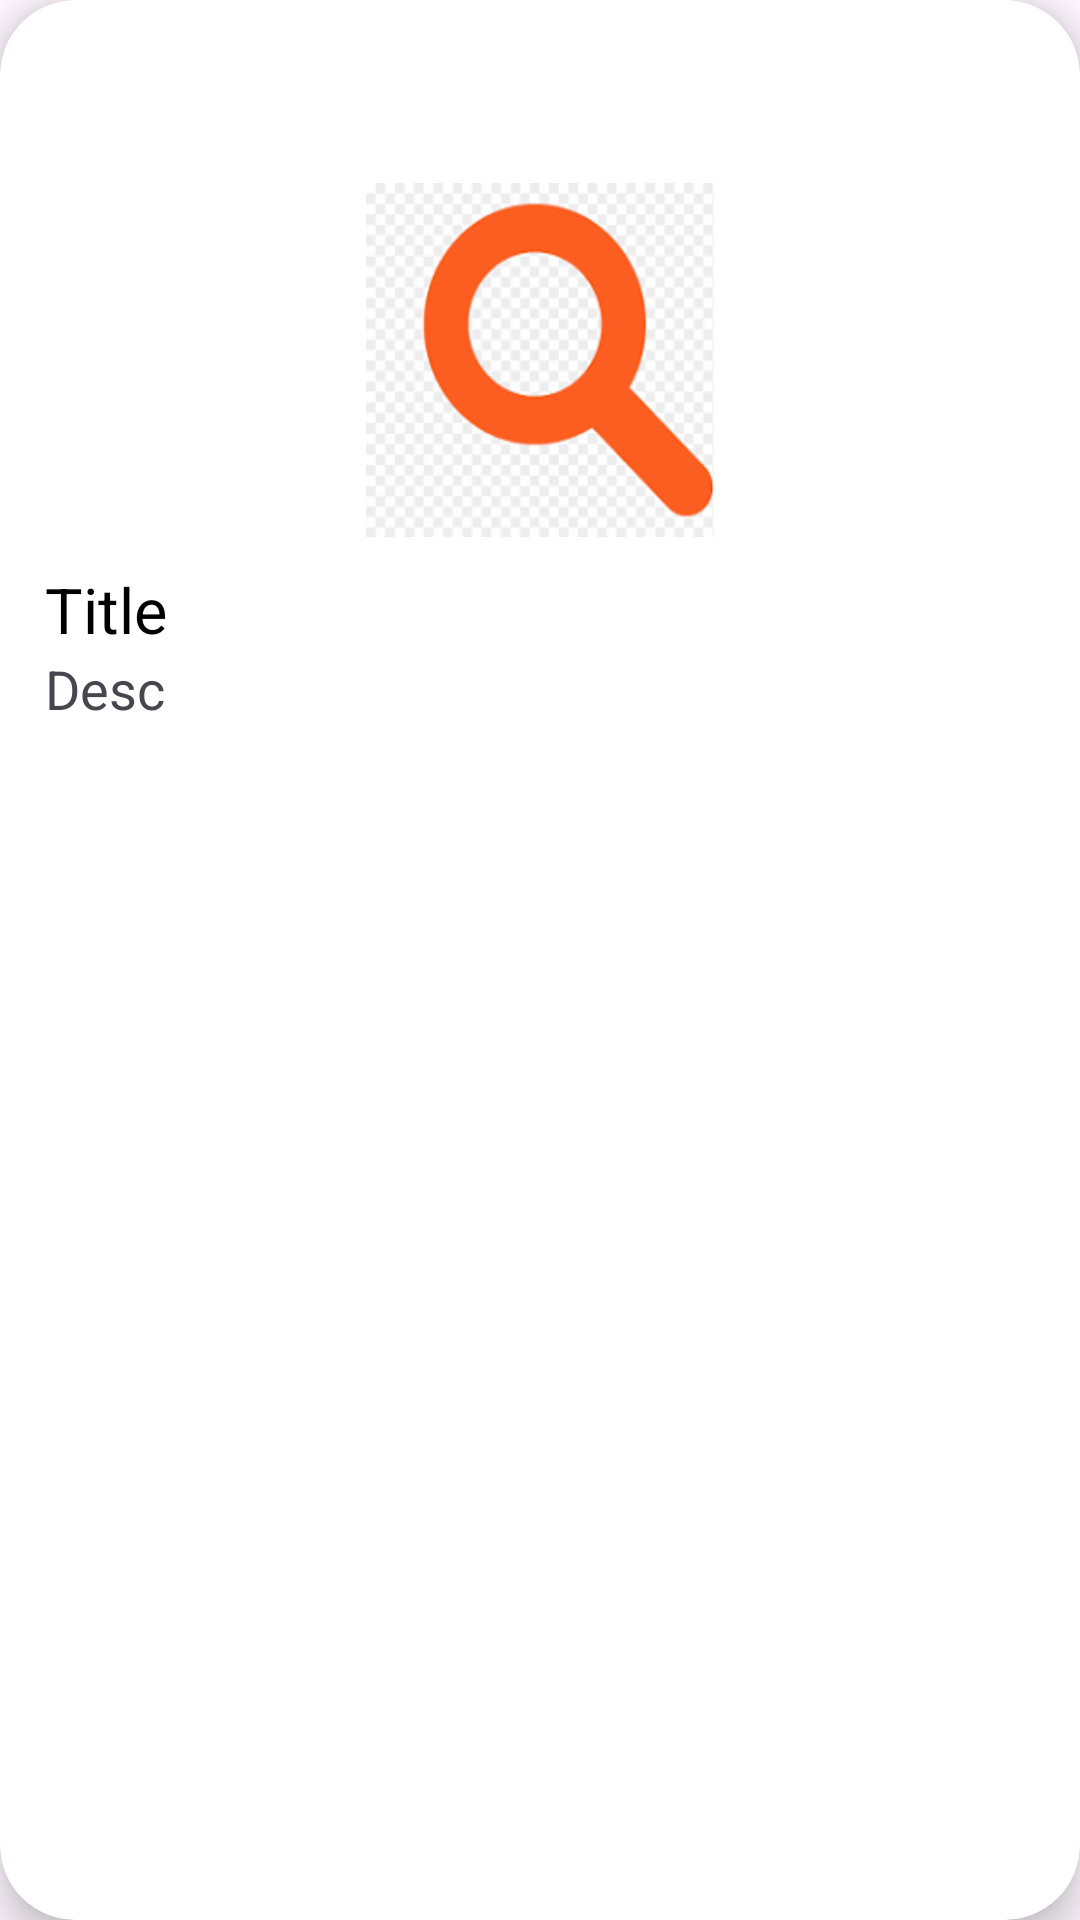

Screen size 1080w x 1920h. Icon name, then its center in pixels as point (x, y):
searchicon: point (568, 360)
